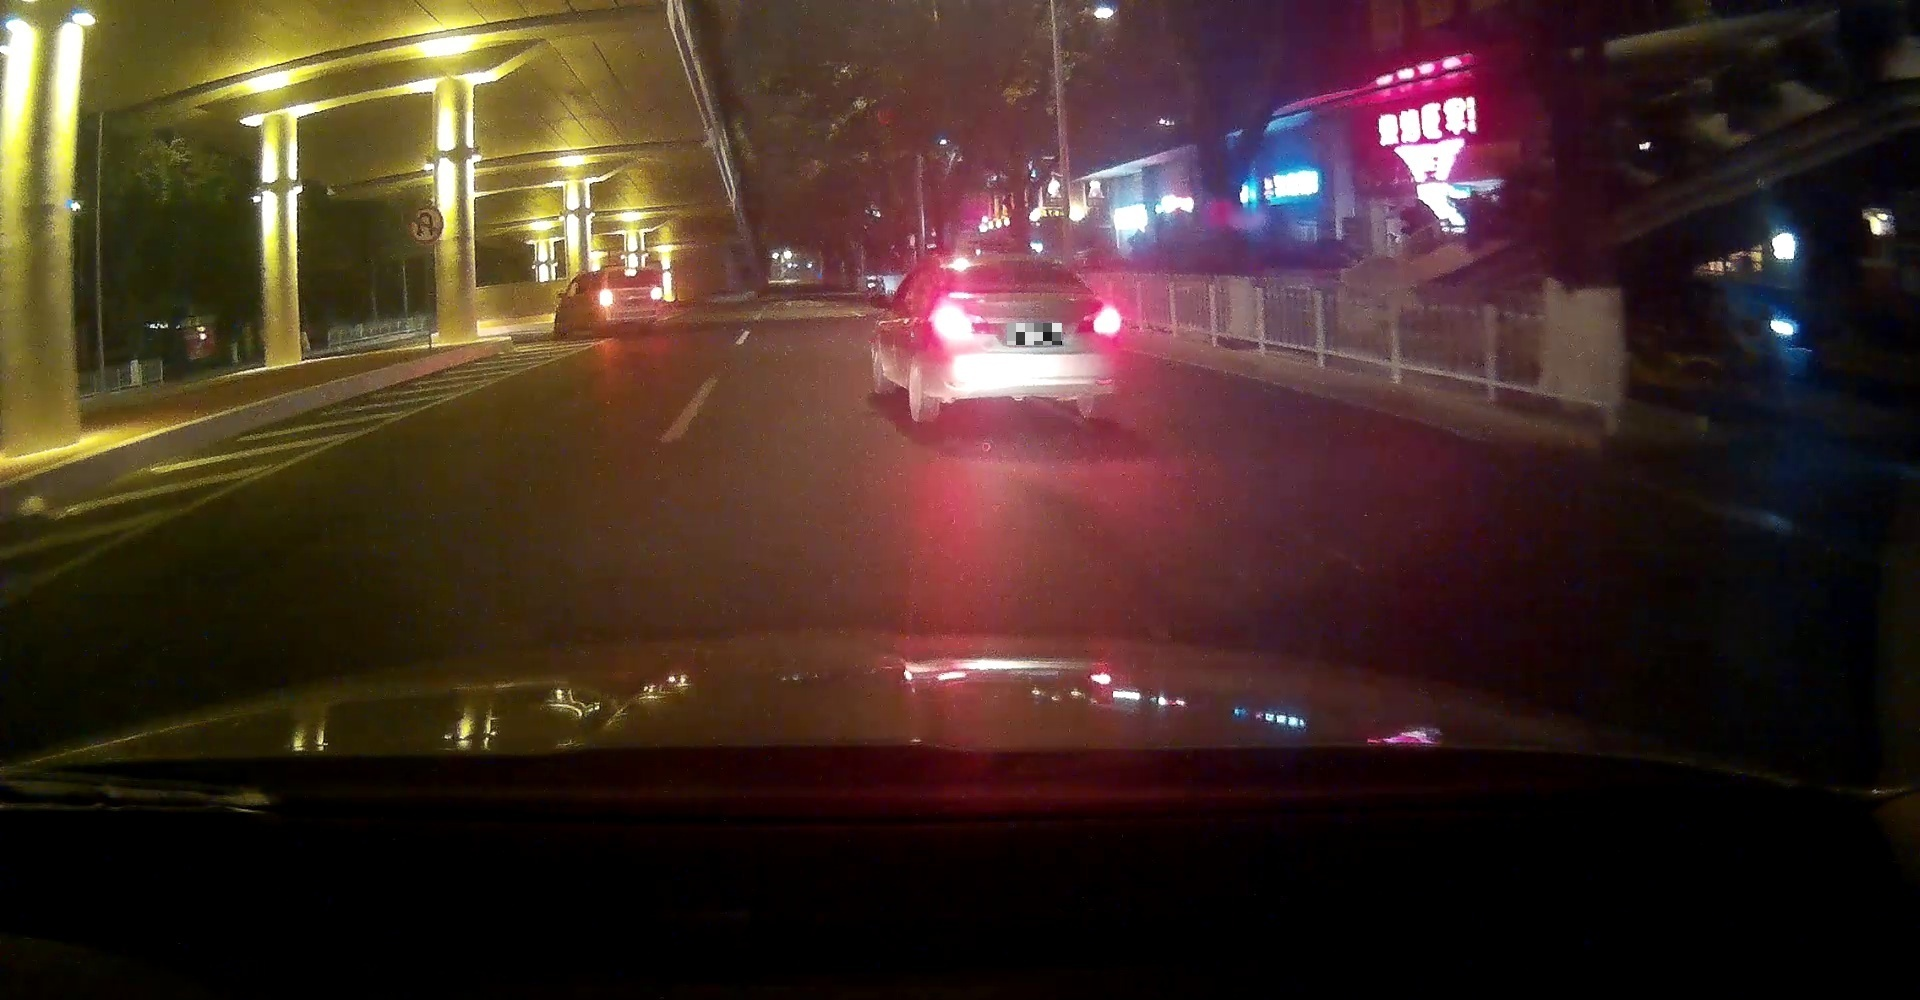L_light: (932, 305, 990, 339), (599, 288, 613, 307)
R_light: (1076, 306, 1119, 335), (651, 286, 662, 299)
T_light: (997, 260, 1020, 268), (623, 269, 637, 277)
night-left: (933, 254, 1120, 421), (599, 266, 662, 335)
plate_1: (1007, 324, 1062, 345)
